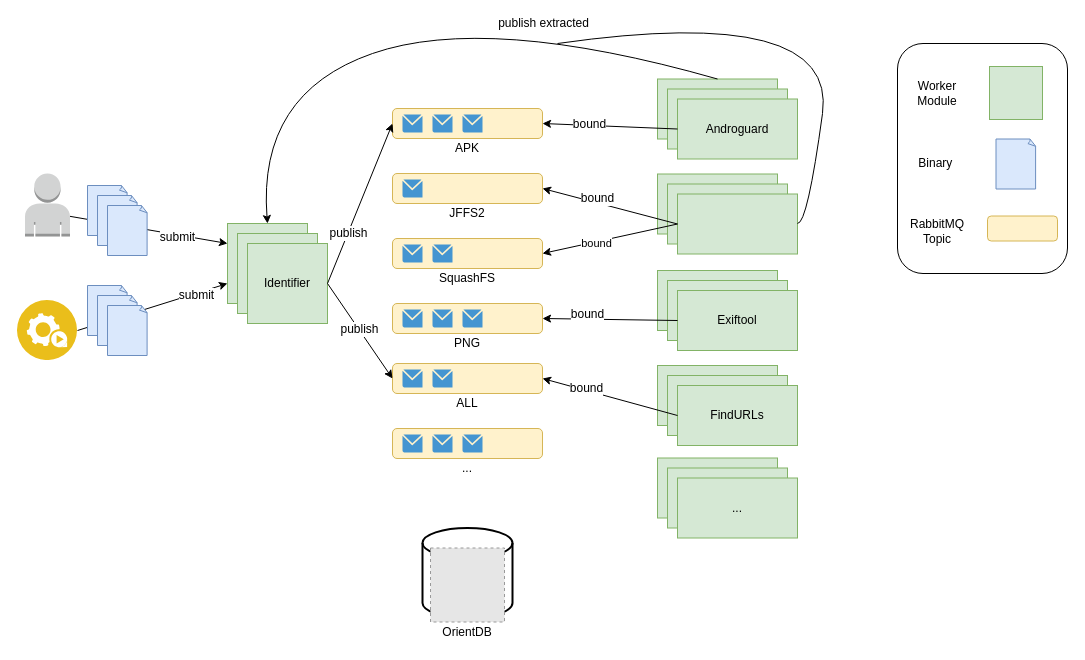
Image size: 1085x660. Some labels were removed from this diagram. Grey dashed boxes stand in for pictures. The centre of each missing label's shape, as x and y in pixels:
"Binwalk" goes at (x=737, y=223).
"CLI" goes at (x=47, y=204).
"REST" goes at (x=47, y=330).
